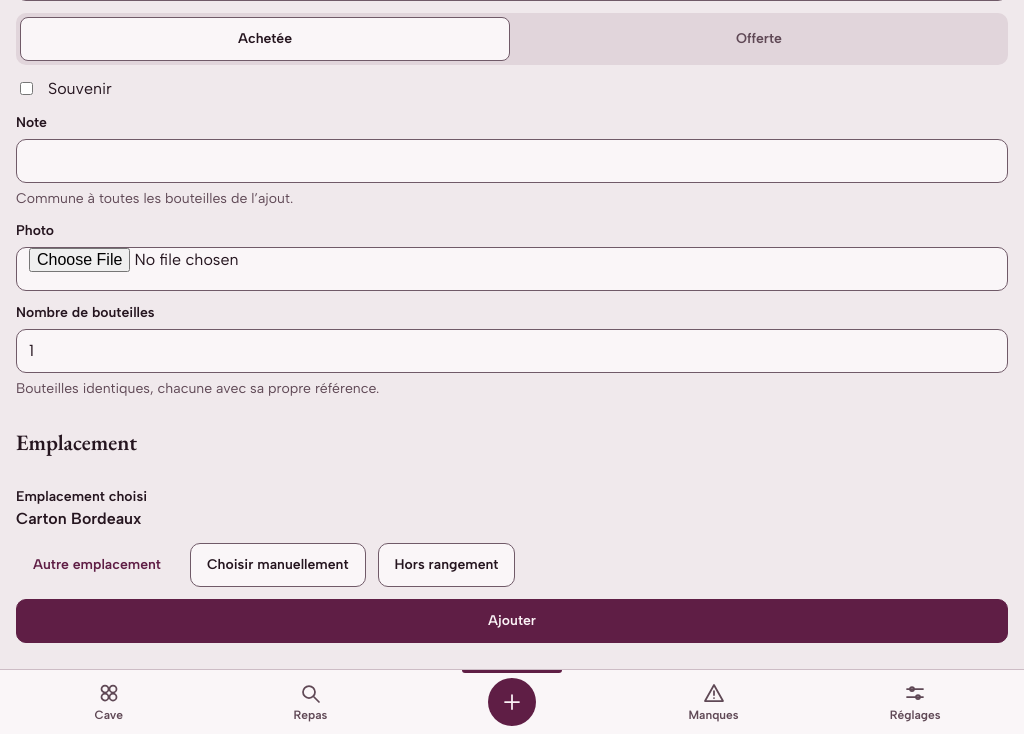
Ajout : capacité bloquante (CdC §3.2, §3.3) › emplacement pré-rempli trop petit pour le lot : refusé, rien n’est mis en file
(page scrolled)
Replace the text in the field labelled "Nombre de bouteilles" with "6" at (512, 350), box [16,328,1008,372]
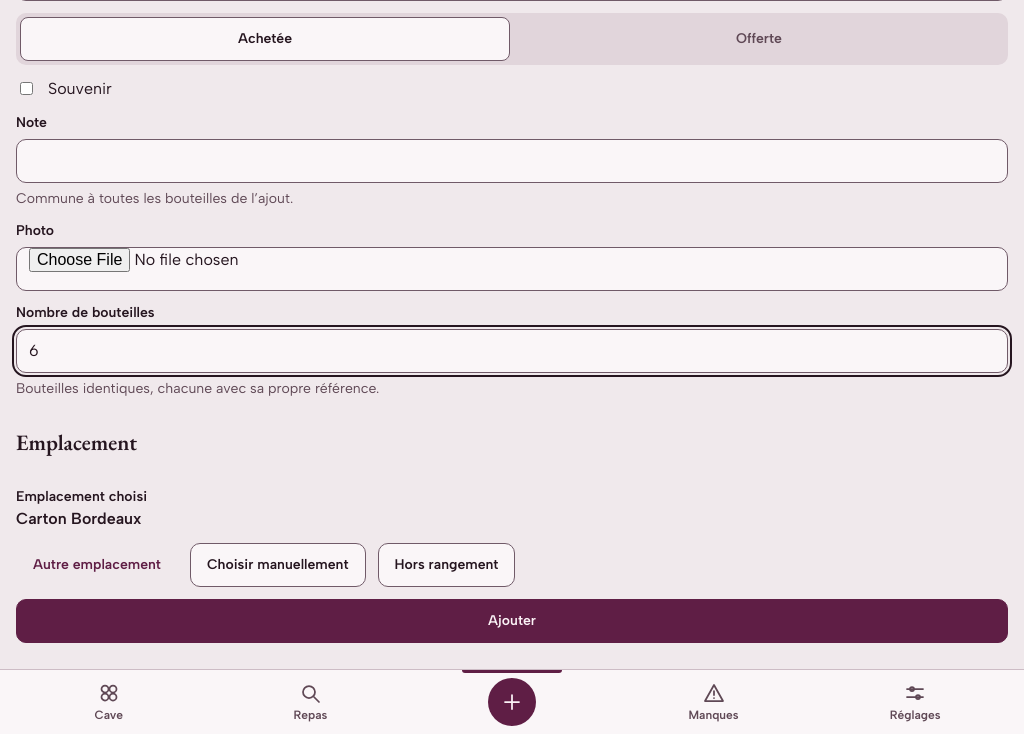
Click the button "Ajouter" at (512, 621), box [16,599,1008,643]
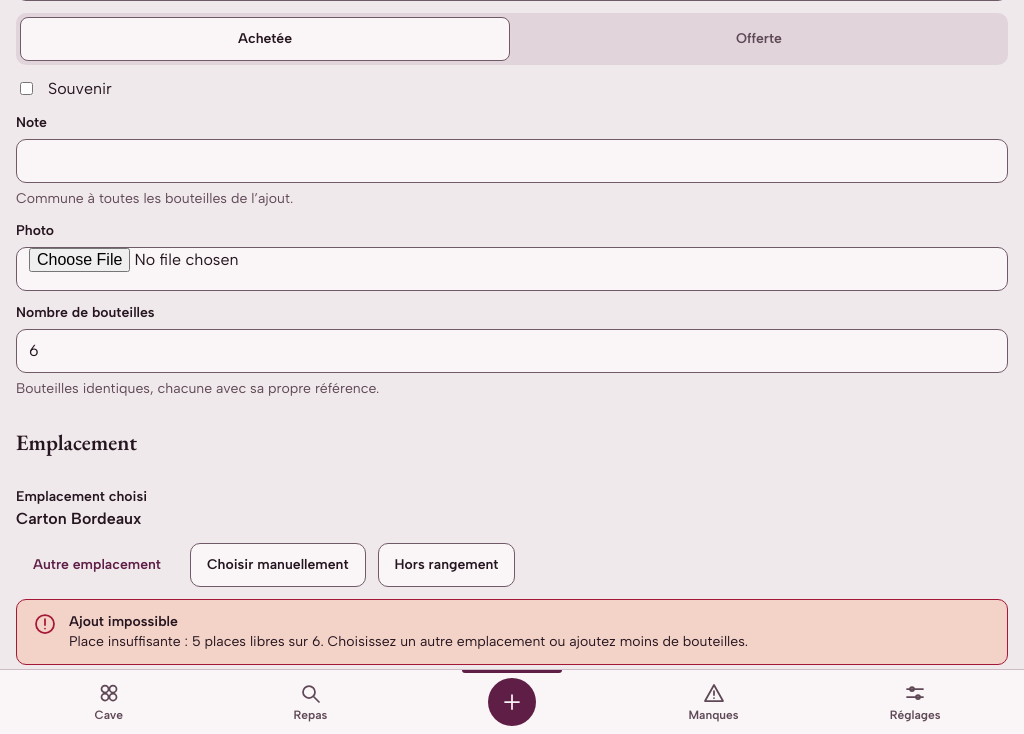
Check: the message shows "Place insuffisante : 5 places libres sur 6. Choisissez un autre emplacement ou ajoutez moins de bouteilles.", box [69,633,748,650]
